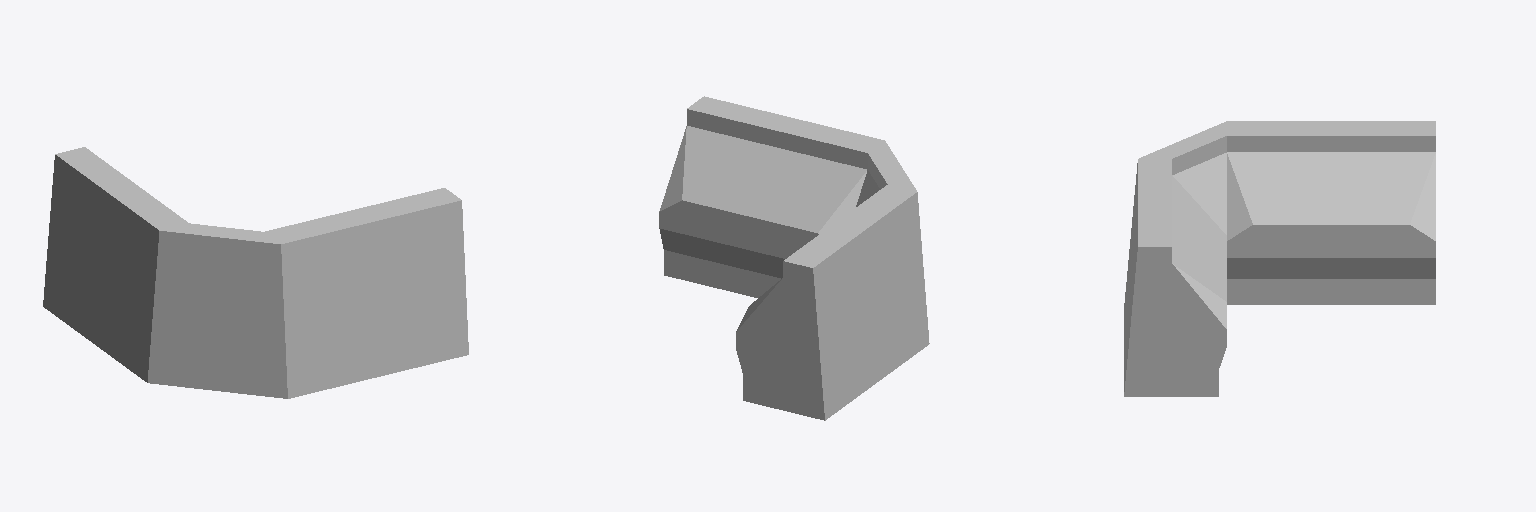
The model's file is consoleCorner.obj.
3 renders of one model, left to right at view 1: azimuth 30°, elevation 25°; view 2: azimuth 150°, elevation 25°; view 3: azimuth 270°, elevation 25°, orthographic.
Parts seen in each view (by area): view 1: consoleCorner; view 2: consoleCorner; view 3: consoleCorner.
Boxes of the visible parts, x1=… form: consoleCorner: x1=43, y1=147, x2=468, y2=398; consoleCorner: x1=659, y1=96, x2=929, y2=420; consoleCorner: x1=1124, y1=121, x2=1435, y2=396.
Size of the model in its own units: 6.8 by 3.6 by 6.8.